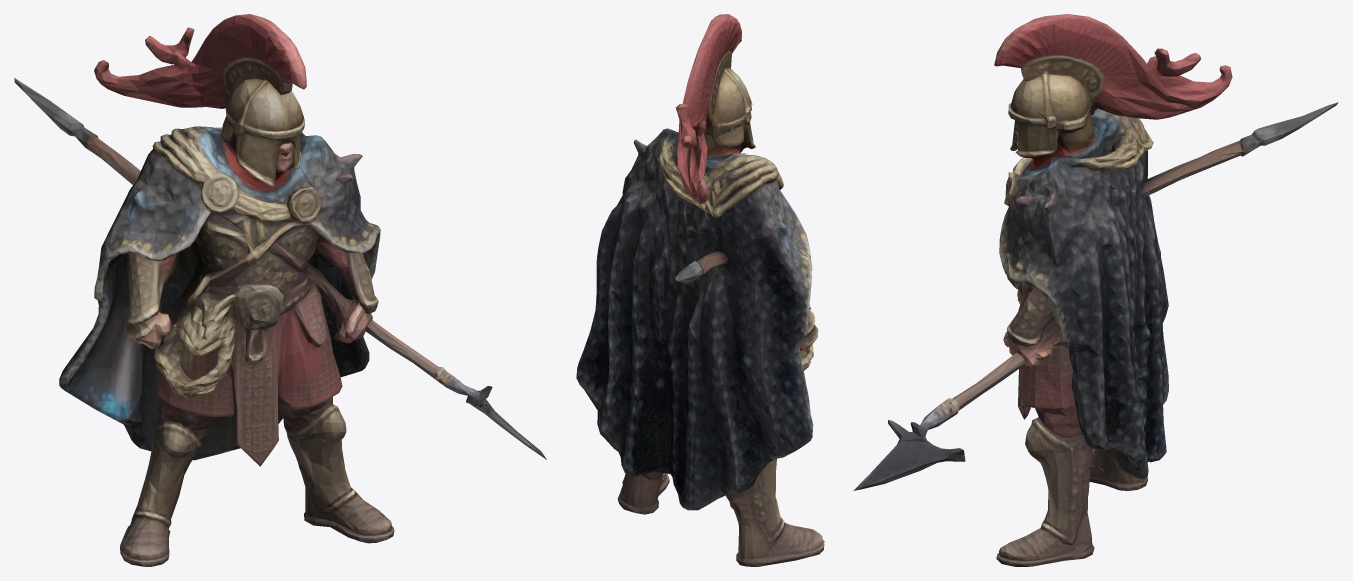
Rendered from harpoonMarine.glb.
The picture shows the model from 3 angles, left to right: view 1: azimuth 30°, elevation 25°; view 2: azimuth 150°, elevation 25°; view 3: azimuth 270°, elevation 25°; orthographic projection. The views are drawn at different scales.
Parts seen in each view (by area): view 1: world; view 2: world; view 3: world.
Part boxes in pixels (x1,y1,x2,y2): world: [14, 14, 546, 566]; world: [576, 14, 824, 566]; world: [853, 14, 1338, 566].
Bounding box in the file's own units: 0.6603 × 0.9989 × 0.8722.
Materials: 1 (1 with a texture image).
